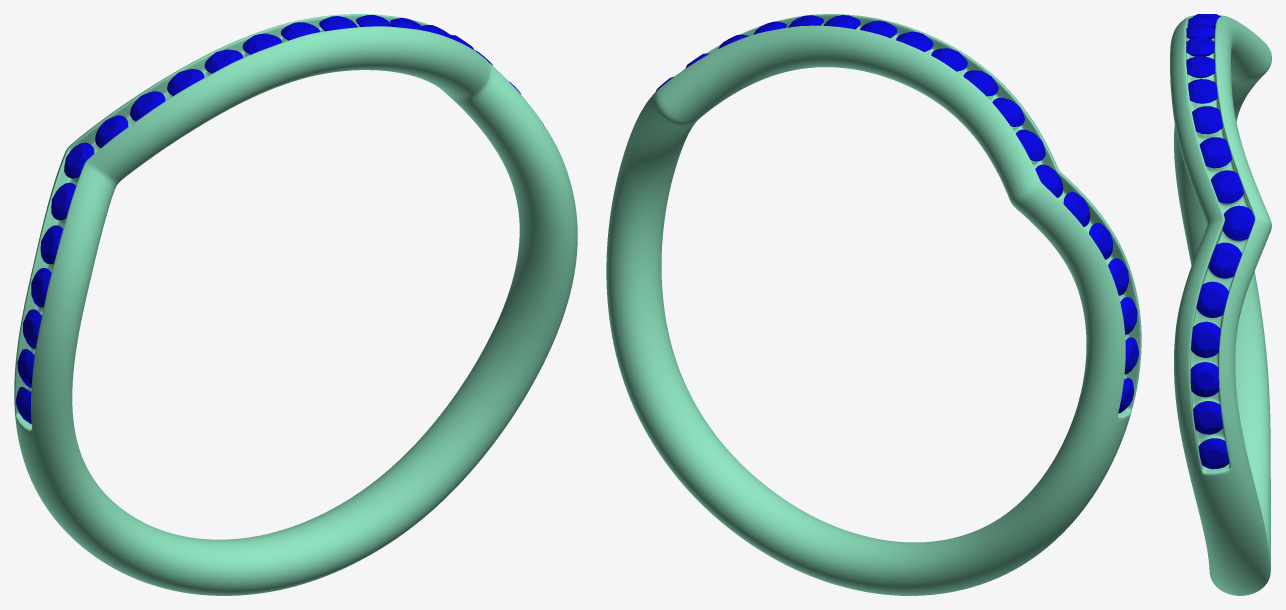
3 renders of one model, left to right at view 1: azimuth 30°, elevation 25°; view 2: azimuth 150°, elevation 25°; view 3: azimuth 270°, elevation 25°, orthographic. The views are drawn at different scales.
Parts seen in each view (by area): view 1: Metal03; view 2: Metal03; view 3: Metal03, Diamond_Band.021, Diamond_Band.020, Diamond_Band.022, Diamond_Band.019, Diamond_Band.023, Diamond_Band.024, Diamond_Band.018, Diamond_Band.017, Diamond_Band.025, Diamond_Band.016, Diamond_Band.015 (+4 smaller).
Boxes of the visible parts, x1,y1,x2,y2 form: Metal03: (14,14,577,595); Metal03: (606,14,1141,595); Metal03: (1170,15,1271,595); Diamond_Band.021: (1196,281,1228,317); Diamond_Band.020: (1208,242,1241,278); Diamond_Band.022: (1191,321,1220,357); Diamond_Band.019: (1222,205,1254,240); Diamond_Band.023: (1190,362,1219,397); Diamond_Band.024: (1193,401,1223,434); Diamond_Band.018: (1211,170,1244,203); Diamond_Band.017: (1199,137,1231,168); Diamond_Band.025: (1198,438,1229,469); Diamond_Band.016: (1192,106,1222,134); Diamond_Band.015: (1188,79,1217,103).
Size of the model in its own units: 20.75 by 20.83 by 3.65.
